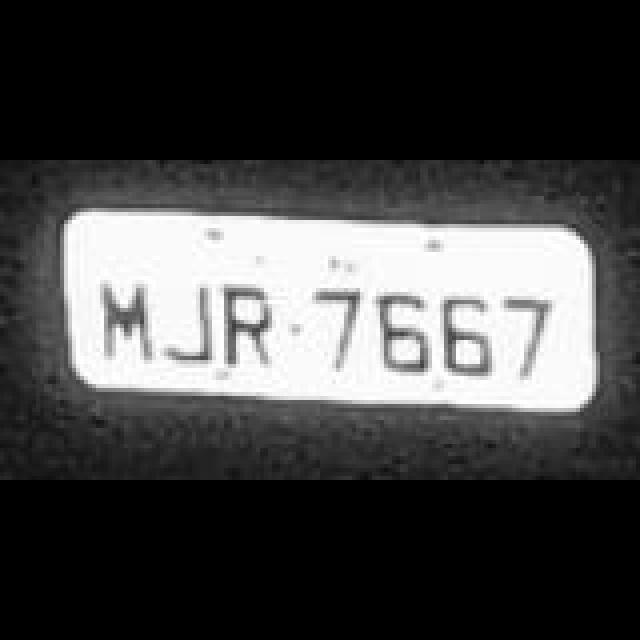6: (374, 294, 434, 378), (440, 294, 496, 378)
7: (502, 294, 562, 378), (312, 290, 368, 374)
J: (158, 282, 218, 366)
M: (94, 282, 154, 366)
R: (218, 286, 278, 370)
